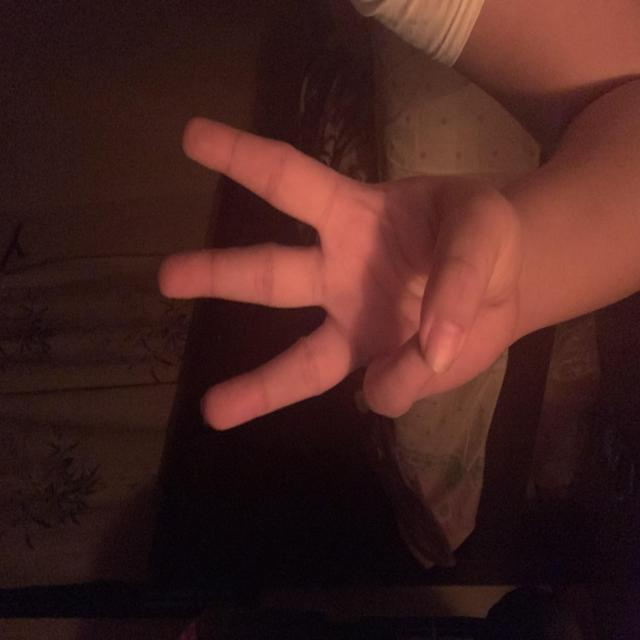W: (112, 158, 432, 524)
